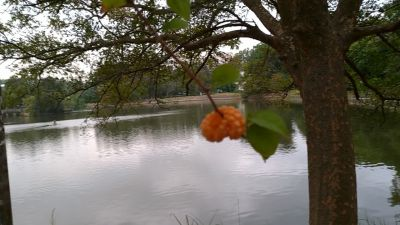eggs: (199, 104, 246, 145)
